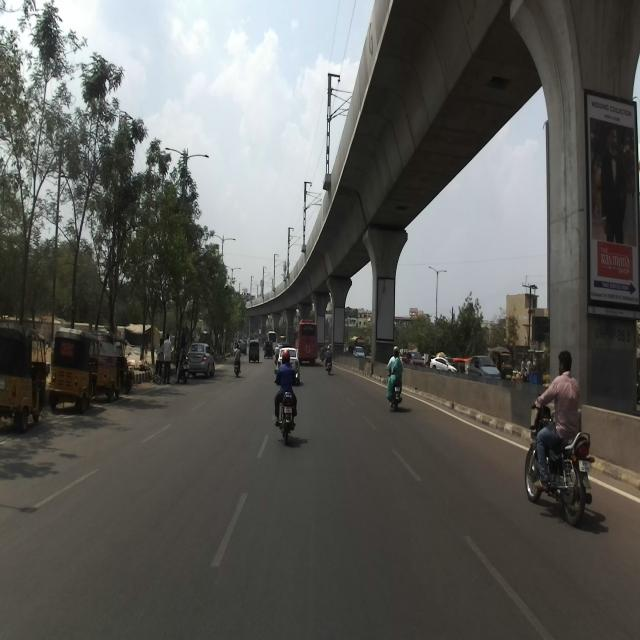autorickshaw: (0, 325, 49, 424), (47, 327, 102, 411)
motorcycle_Hero: (524, 402, 592, 533), (274, 366, 300, 443)
